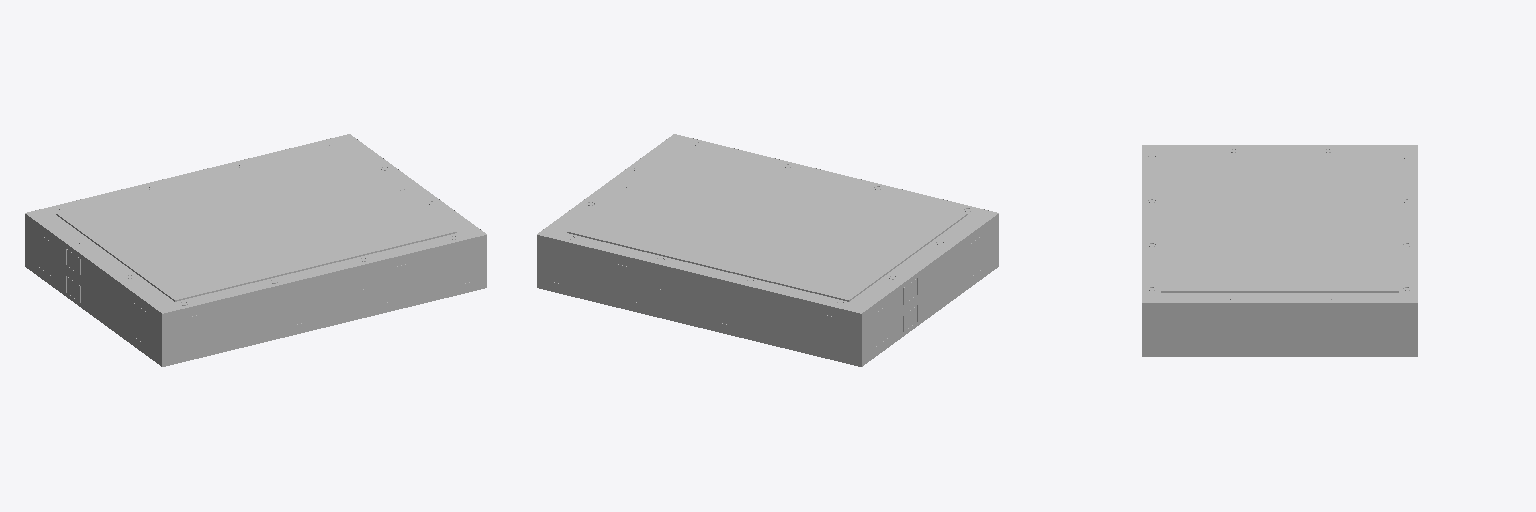
The picture shows the model from 3 angles: view 1: azimuth 30°, elevation 25°; view 2: azimuth 150°, elevation 25°; view 3: azimuth 270°, elevation 25°; orthographic projection.
Visible parts, largest first — view 1: Art_Room; view 2: Art_Room; view 3: Art_Room.
Part boxes in pixels (left/top/right/bottom): Art_Room: left=25, top=134, right=486, bottom=366; Art_Room: left=537, top=134, right=998, bottom=366; Art_Room: left=1142, top=145, right=1417, bottom=356.
Bounding box in the file's own units: 27.64 × 5.46 × 20.29.